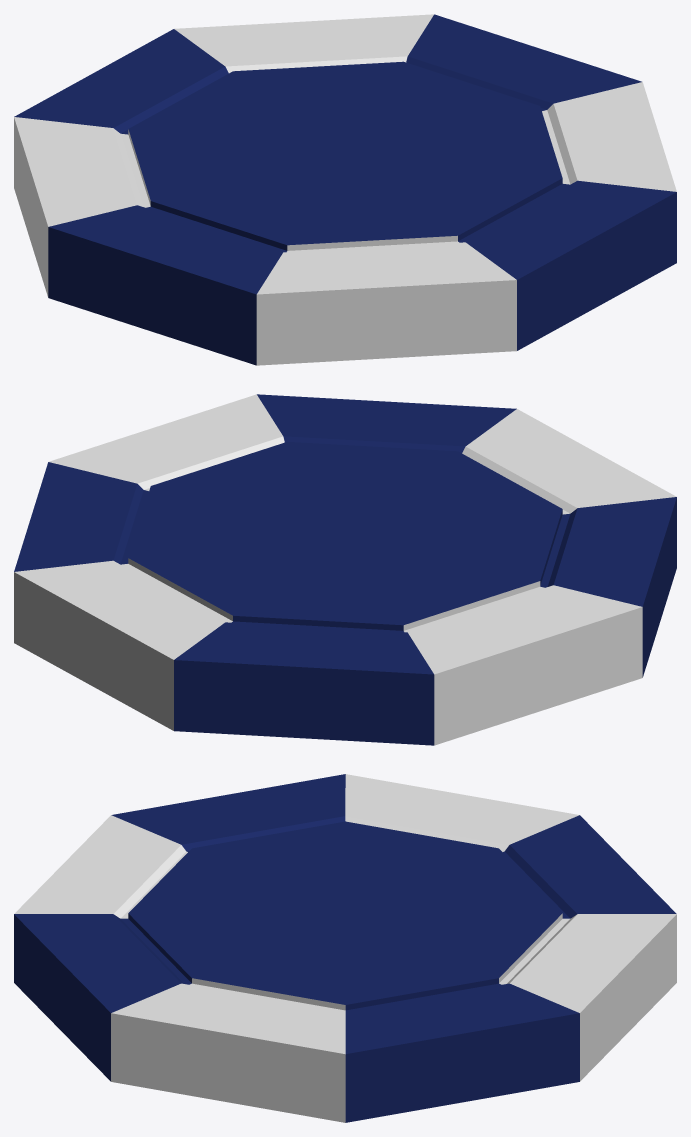
File: Poker_Chip_Blue.fbx
3 renders of one model, top to bottom at view 1: azimuth 30°, elevation 25°; view 2: azimuth 150°, elevation 25°; view 3: azimuth 270°, elevation 25°, orthographic. The views are drawn at different scales.
Parts seen in each view (by area): view 1: Base_Mesh_Poker_Chip_Blue; view 2: Base_Mesh_Poker_Chip_Blue; view 3: Base_Mesh_Poker_Chip_Blue.
Boxes of the visible parts, x1=… form: Base_Mesh_Poker_Chip_Blue: x1=14, y1=14, x2=676, y2=365; Base_Mesh_Poker_Chip_Blue: x1=14, y1=394, x2=676, y2=745; Base_Mesh_Poker_Chip_Blue: x1=14, y1=774, x2=676, y2=1122.
Bounding box in the file's own units: 6.6 × 0.7888 × 6.6.
